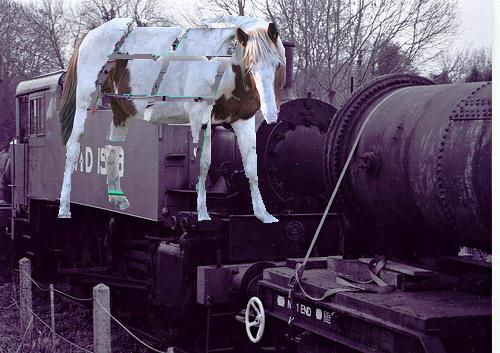tampered: (59, 16, 286, 223)
